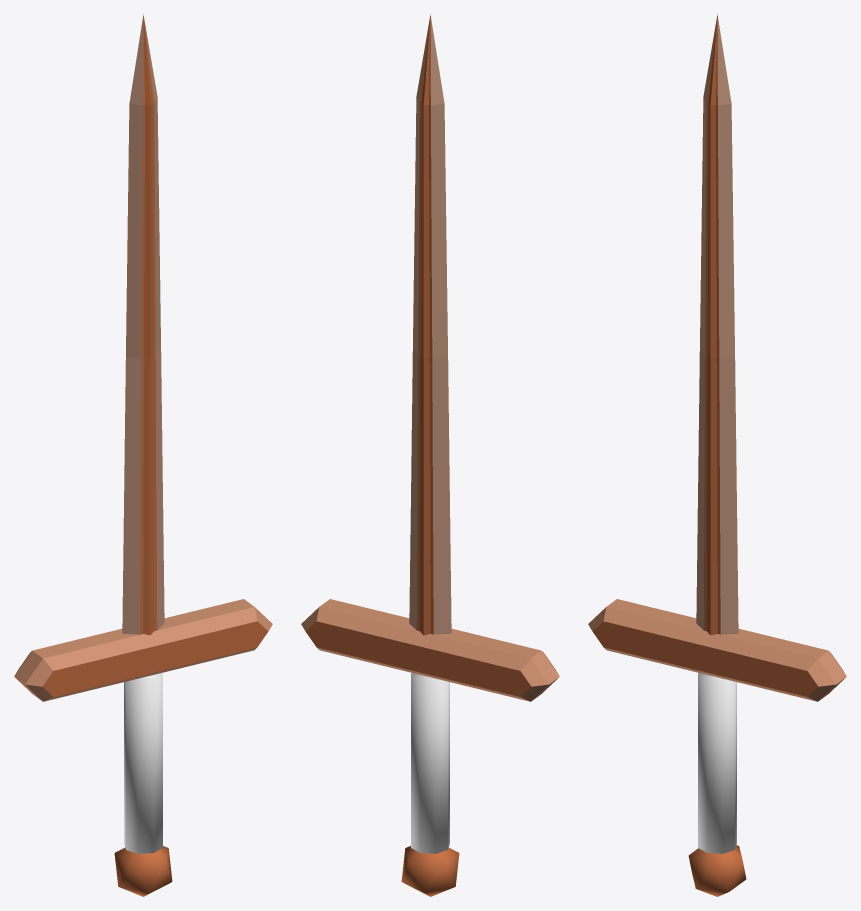
File: copper_shortsword.glb
The picture shows the model from 3 angles, left to right: view 1: azimuth 30°, elevation 25°; view 2: azimuth 150°, elevation 25°; view 3: azimuth 330°, elevation 25°; orthographic projection.
Parts seen in each view (by area): view 1: copper_shortsword_v0; view 2: copper_shortsword_v0; view 3: copper_shortsword_v0.
Part boxes in pixels (left/top/right/bottom): copper_shortsword_v0: left=14, top=14, right=272, bottom=896; copper_shortsword_v0: left=301, top=14, right=559, bottom=896; copper_shortsword_v0: left=588, top=14, right=846, bottom=896.
Bounding box in the file's own units: 0.299 × 1.02 × 0.0578.
